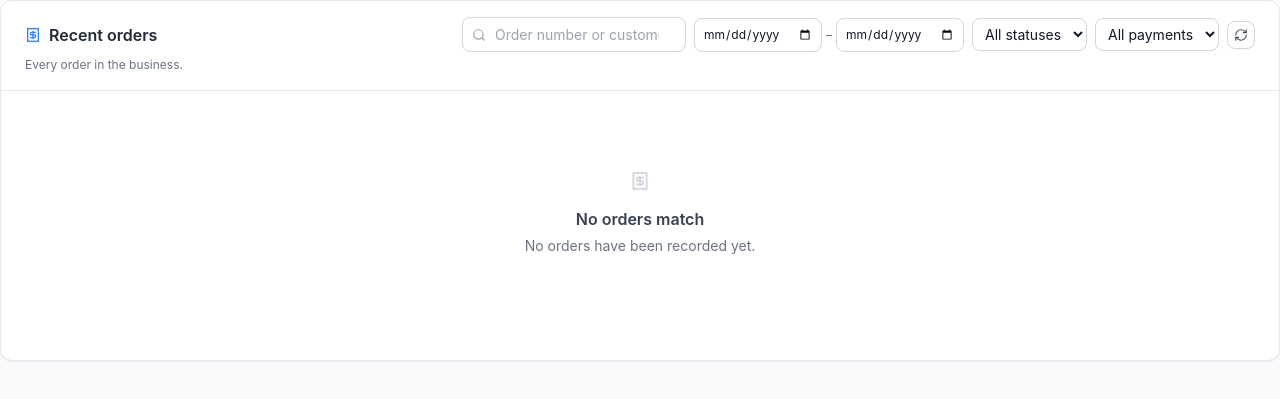
Test: SalesOrderTable › offers a way out of a filter that matched nothing
Check: the heading "No orders match" is shown, box [576,207,704,231]
Check: the text "No orders have been recorded yet." is shown, box [525,235,755,256]
Type "SO-9999" into the search field named "Search orders". click: coordinates (574, 34)
box: [462,17,686,52]
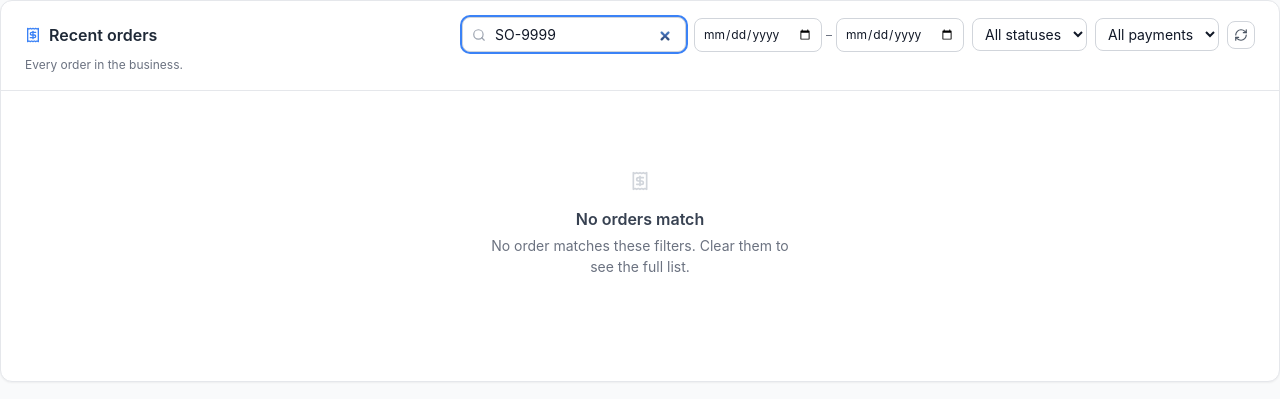
Check: the text "Clear them to see the full list" is shown, box [491,237,789,275]
